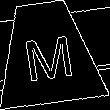M_N: (19, 25, 76, 81)
